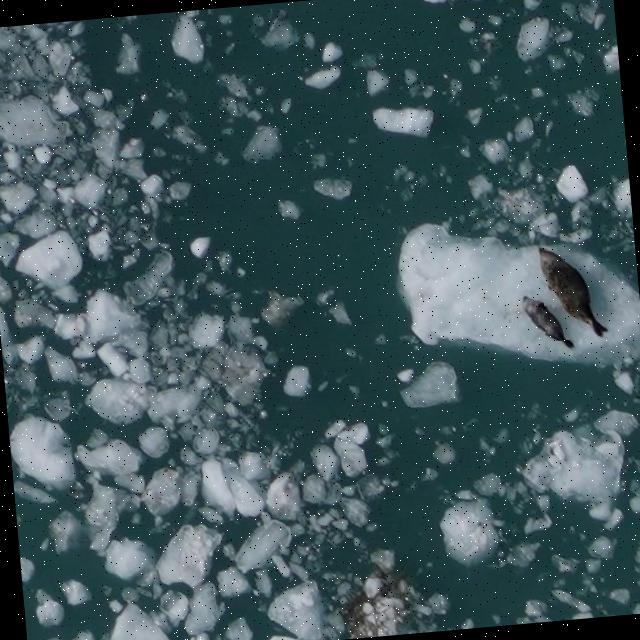seal: (540, 249, 605, 335), (521, 295, 573, 349)
